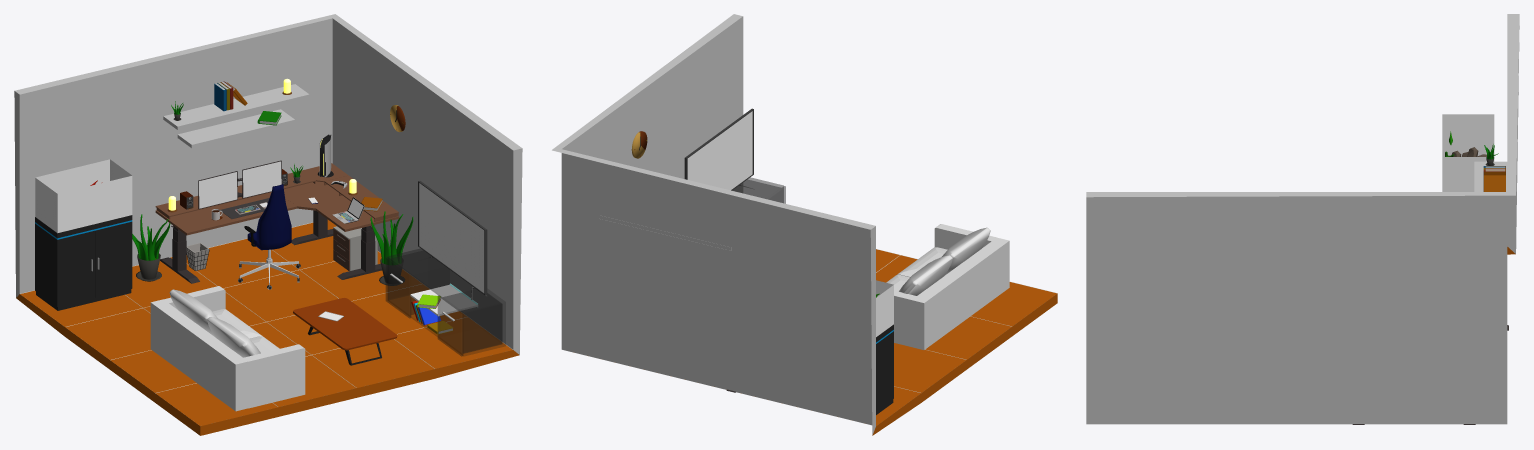
3 renders of one model, left to right at view 1: azimuth 30°, elevation 25°; view 2: azimuth 150°, elevation 25°; view 3: azimuth 270°, elevation 25°, orthographic. The views are drawn at different scales.
Visible parts, largest first — view 1: Cube.038, Cube.072, Cube.054, aqu, Cube.039, tv-screen, Cube.041, Cube.048, Cube.040, Cube.004, Cube.059, Cube.057 (+19 smaller); view 2: Cube.038, Cube.072, tv-screen, Cube.054, aqu, Cube.039, Cube.041, Cube.047; view 3: Cube.038, aqu, Cube.059.
Part boxes in pixels (<box>): Cube.038: <box>14,14,522,435</box>; Cube.072: <box>150,286,305,411</box>; Cube.054: <box>35,215,132,310</box>; aqu: <box>35,159,132,233</box>; Cube.039: <box>388,248,505,355</box>; tv-screen: <box>419,183,484,292</box>; Cube.041: <box>438,289,501,356</box>; Cube.048: <box>293,298,397,365</box>; Cube.040: <box>386,251,449,318</box>; Cube.004: <box>160,210,382,283</box>; Cube.059: <box>163,84,309,129</box>; Cube.057: <box>244,184,291,258</box>; Cube.038: <box>552,14,1057,435</box>; Cube.072: <box>886,224,1009,349</box>; tv-screen: <box>687,111,752,190</box>; Cube.054: <box>876,324,893,414</box>; aqu: <box>876,280,893,336</box>; Cube.039: <box>732,177,783,202</box>; Cube.041: <box>733,180,785,203</box>; Cube.047: <box>684,108,753,190</box>; Cube.038: <box>1086,14,1519,424</box>; aqu: <box>1442,114,1494,191</box>; Cube.059: <box>1474,161,1507,191</box>.
Bounding box in the file's own units: 39.05 × 24.22 × 39.05.
